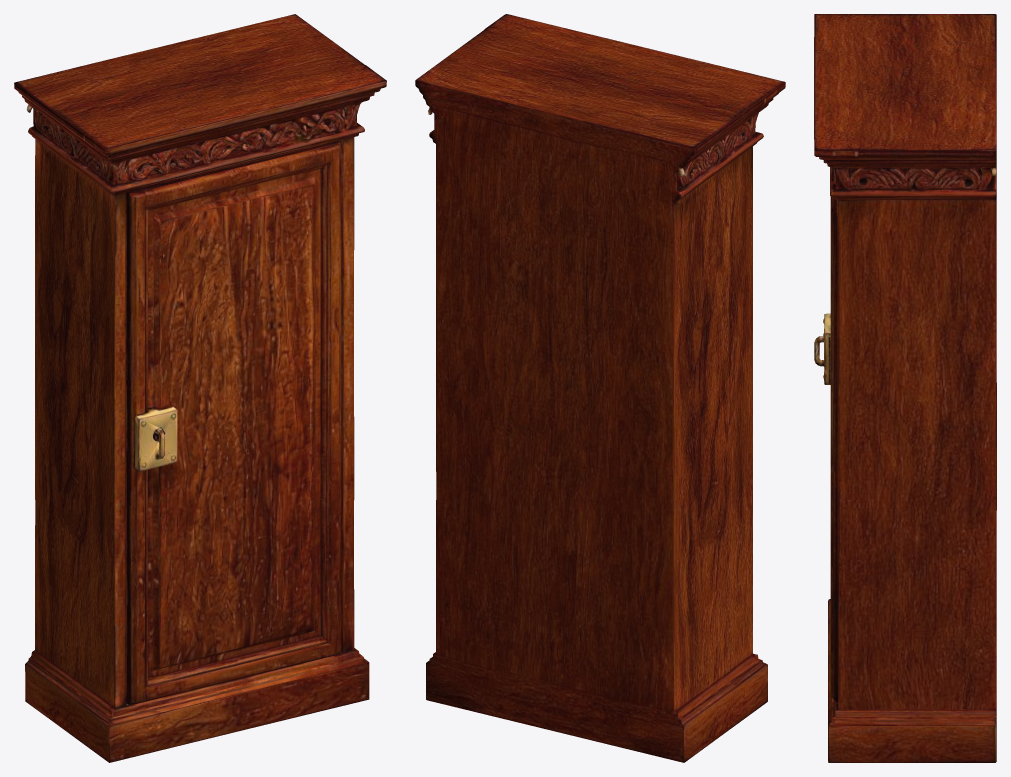
File: cabinet.glb
3 renders of one model, left to right at view 1: azimuth 30°, elevation 25°; view 2: azimuth 150°, elevation 25°; view 3: azimuth 270°, elevation 25°, orthographic.
Parts seen in each view (by area): view 1: mesh; view 2: mesh; view 3: mesh.
Boxes of the visible parts, x1,y1,x2,y2 form: mesh: [14, 14, 386, 762]; mesh: [415, 14, 785, 762]; mesh: [814, 14, 996, 762].
Size of the model in its own units: 0.4756 by 1 by 0.2678.
Materials: 1 (1 with a texture image).
